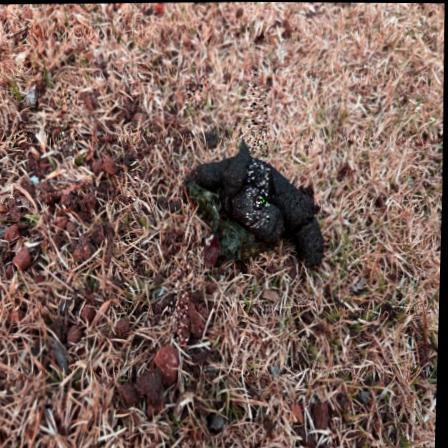dog-poop: (162, 135, 336, 273)
